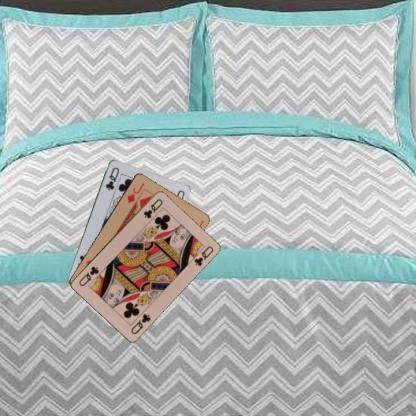Jd: (124, 180, 146, 204)
Qc: (128, 311, 152, 335), (141, 196, 164, 219), (103, 165, 120, 191)
